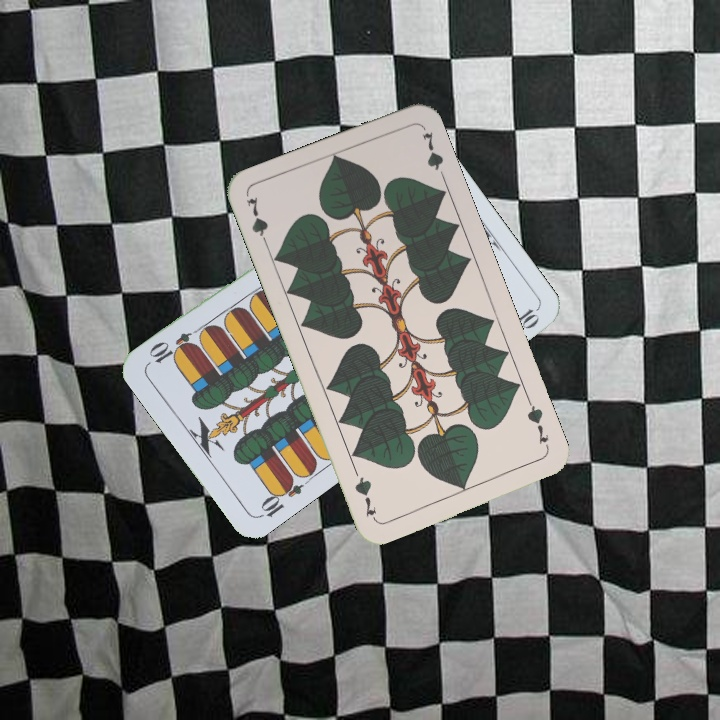E10: (254, 473, 306, 521)
G7: (242, 192, 272, 251), (523, 396, 552, 447)
